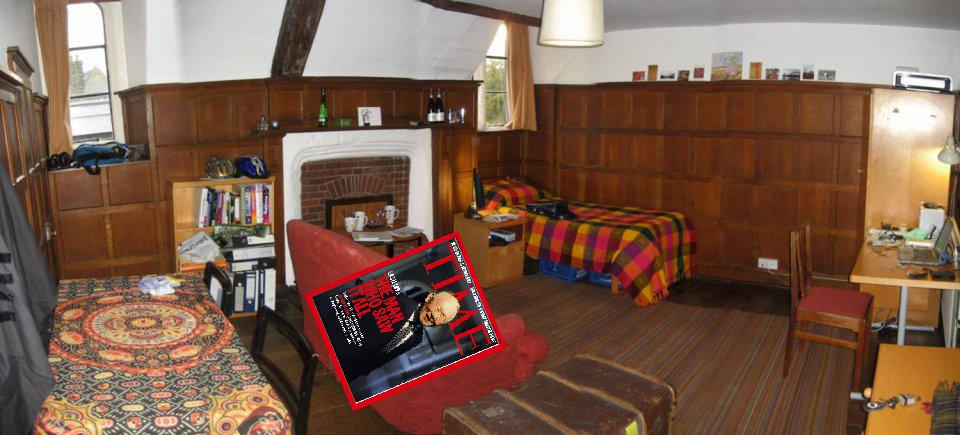times: (301, 231, 505, 411)
